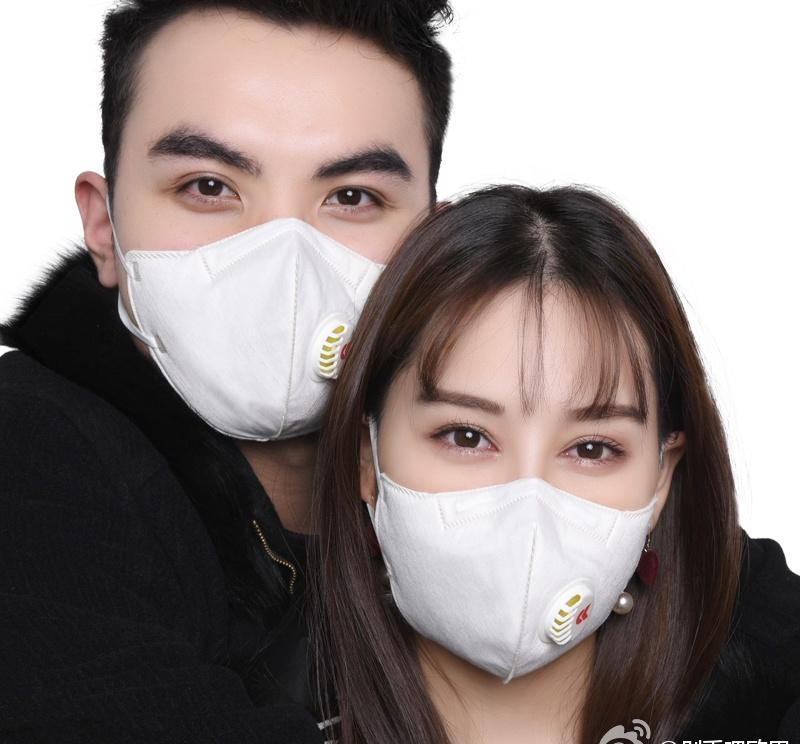Mask: (101, 91, 456, 446)
